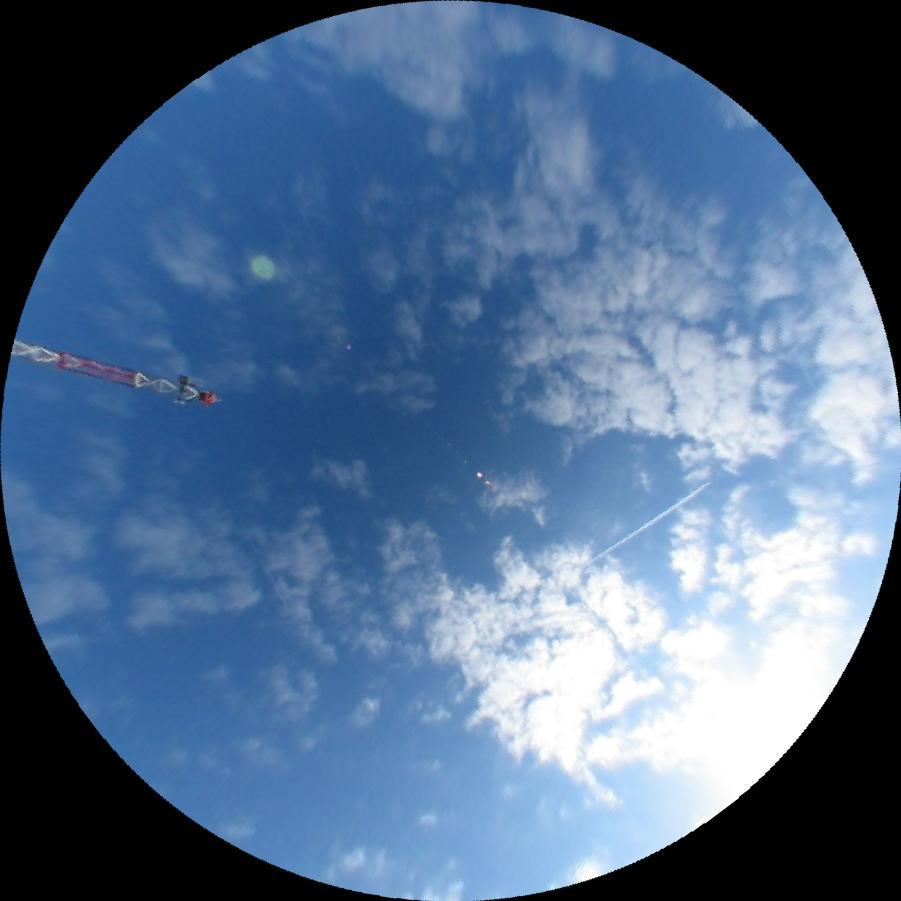contrail young: (585, 479, 712, 568), (241, 524, 287, 610), (787, 327, 813, 388)
sun: (671, 627, 847, 803)
